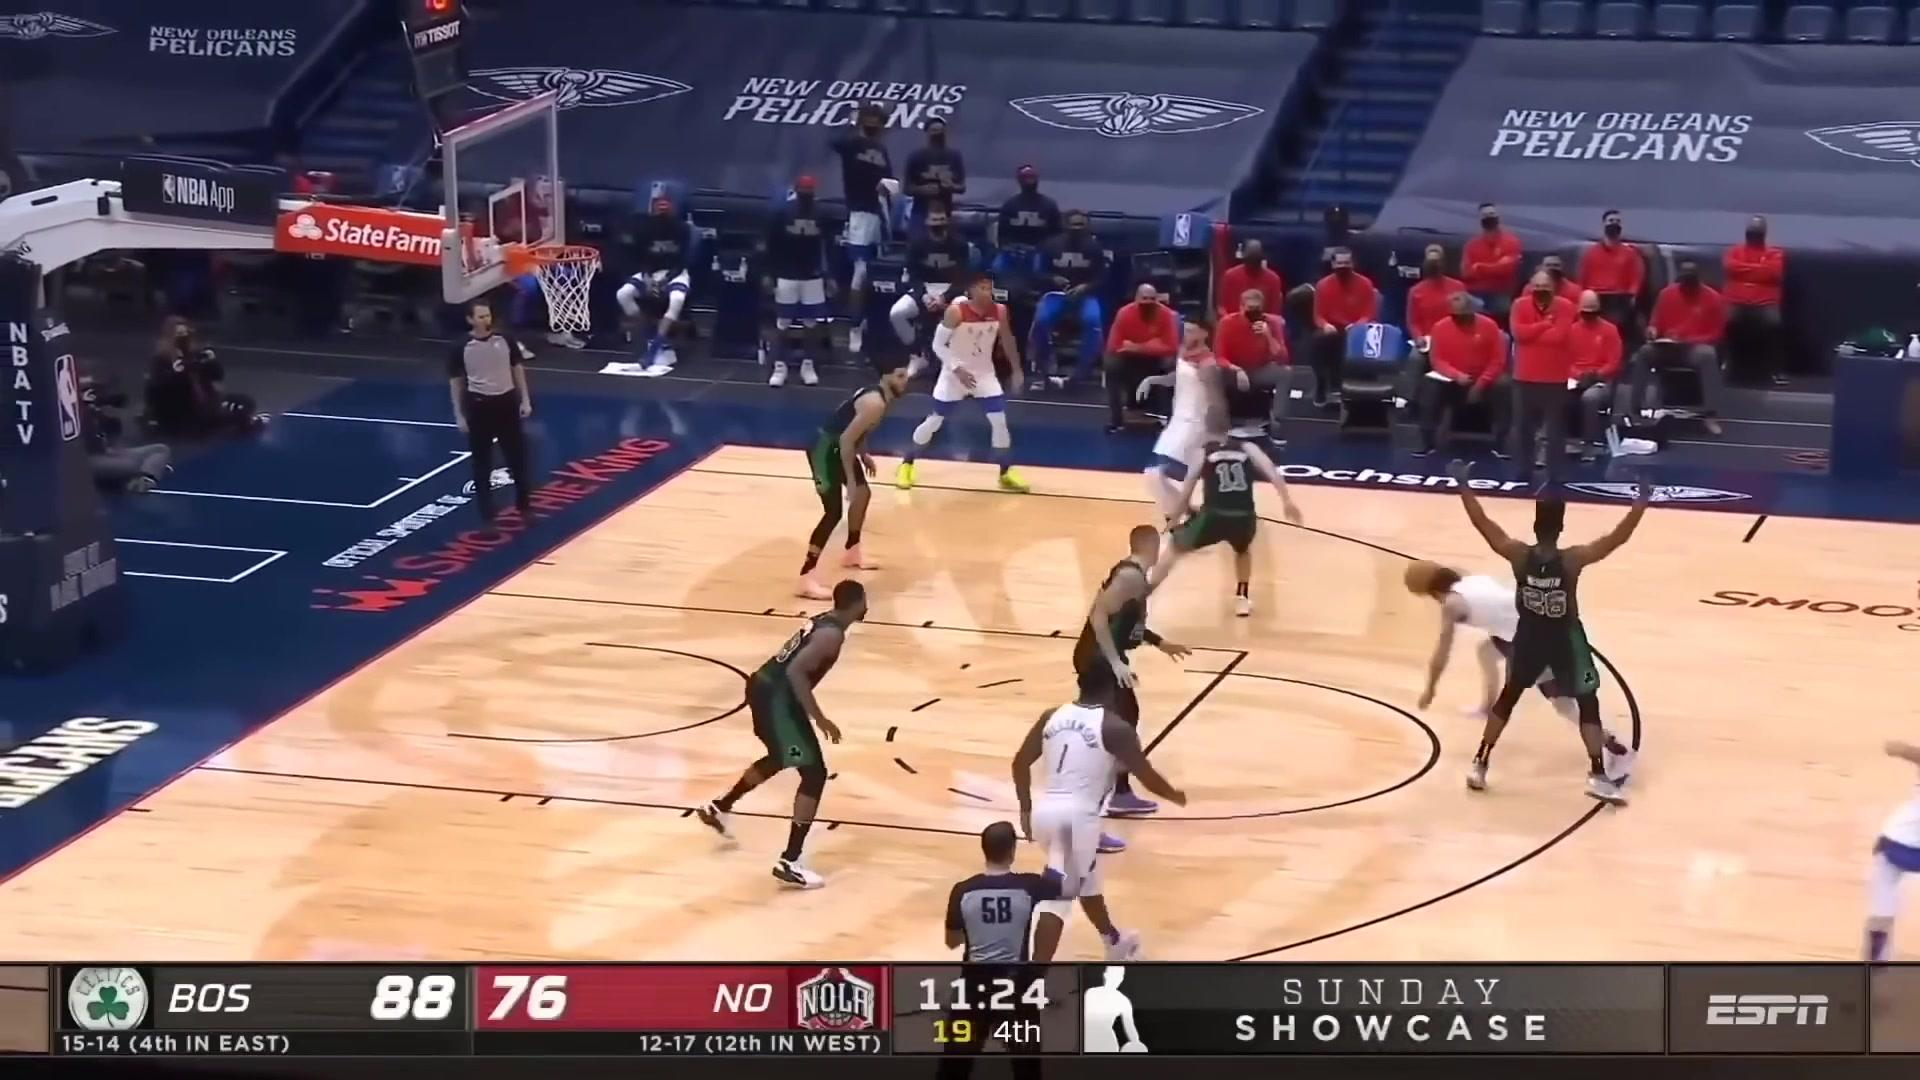foul: (1385, 471, 1664, 790)
